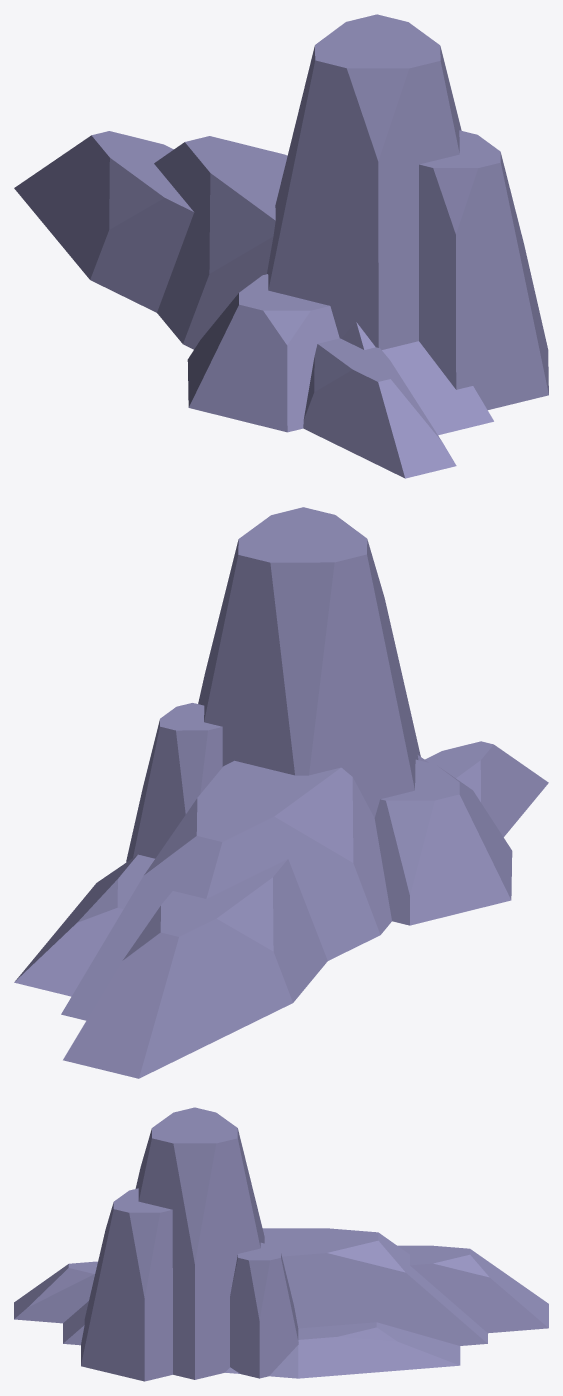
Rendered from Stone3.fbx.
3 views of the same model, one above another, from view 1: azimuth 30°, elevation 25°; view 2: azimuth 150°, elevation 25°; view 3: azimuth 270°, elevation 25° (orthographic). The views are drawn at different scales.
Visible parts, largest first — view 1: mergedBlocks; view 2: mergedBlocks; view 3: mergedBlocks.
Part boxes in pixels (bbox=[...]): mergedBlocks: bbox=[14, 14, 548, 478]; mergedBlocks: bbox=[14, 507, 548, 1078]; mergedBlocks: bbox=[14, 1107, 548, 1381].
Bounding box in the file's own units: 115 × 104 × 240.
